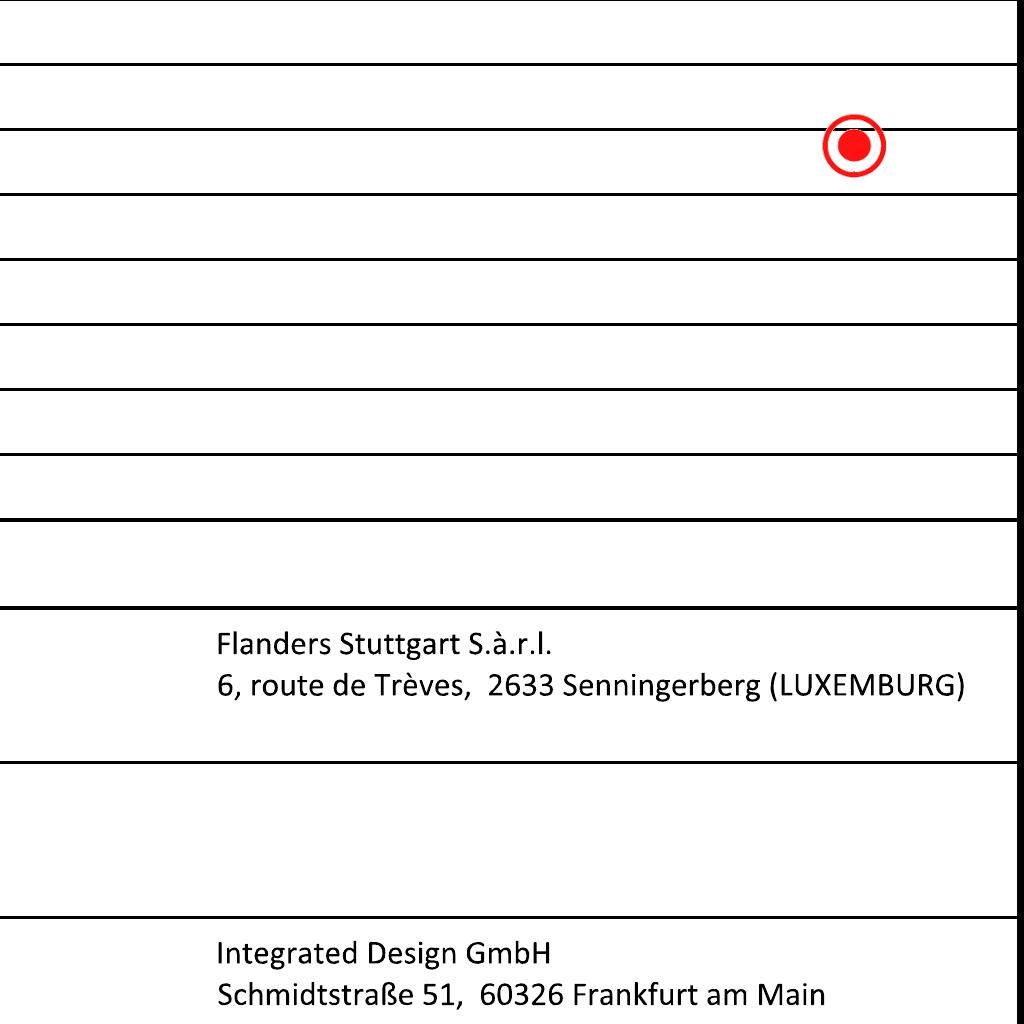Taster: (820, 112, 886, 178)
